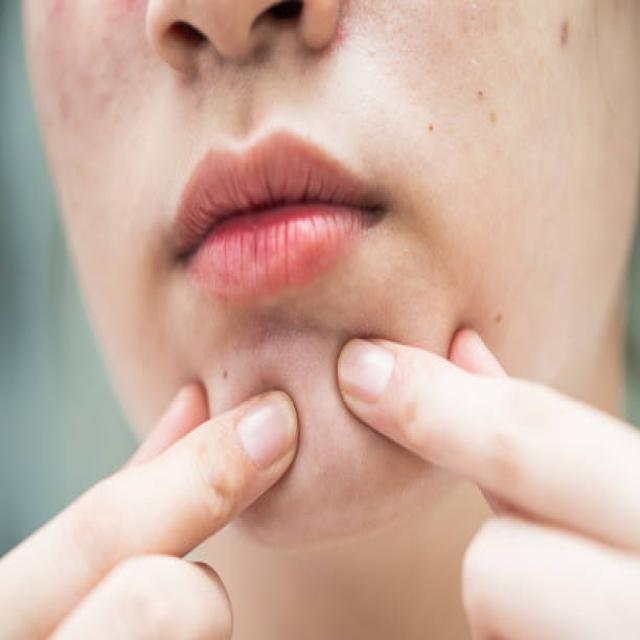Dry-Skin: (98, 26, 240, 157), (482, 35, 590, 179), (506, 230, 582, 371), (433, 31, 488, 176), (54, 42, 112, 174), (285, 380, 368, 425)
